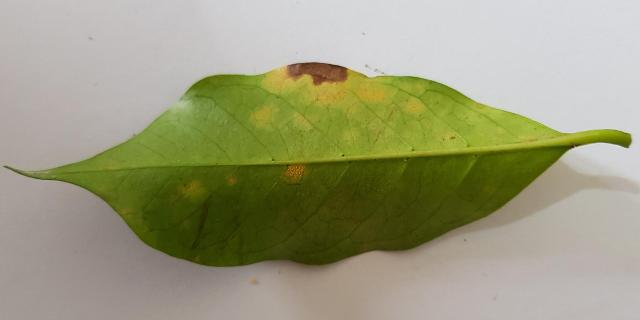miner: (263, 62, 387, 114), (282, 162, 306, 183), (292, 112, 315, 130), (178, 180, 203, 196), (405, 98, 424, 113), (253, 107, 271, 122), (228, 177, 236, 184)
